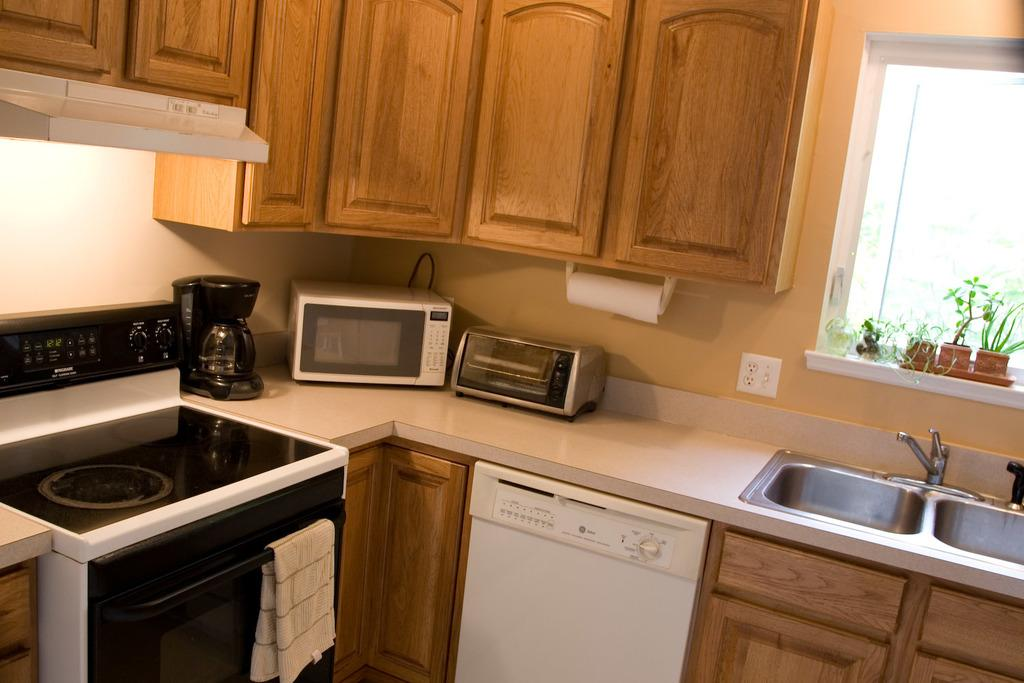cabinet_door: (642, 0, 790, 237), (488, 7, 606, 252), (362, 6, 460, 236), (385, 456, 451, 683), (716, 606, 874, 683), (272, 10, 322, 224), (150, 7, 240, 94), (2, 10, 108, 75)
